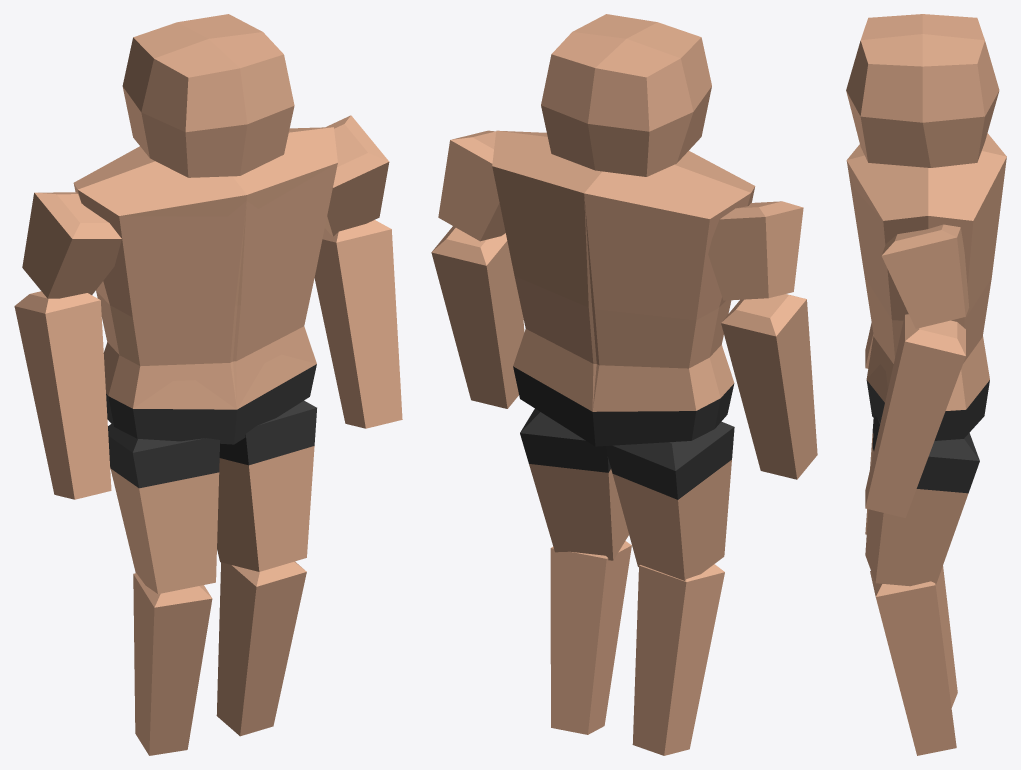
File: man.fbx
3 renders of one model, left to right at view 1: azimuth 30°, elevation 25°; view 2: azimuth 150°, elevation 25°; view 3: azimuth 270°, elevation 25°, orthographic.
Visible parts, largest first — view 1: Cube, Cube.003, Cube.002, Cube.008, Cube.007, Cube.006, Cube.010, Cube.009, Cube.001, Cube.004; view 2: Cube, Cube.003, Cube.008, Cube.009, Cube.002, Cube.010, Cube.007, Cube.006, Cube.001, Cube.004; view 3: Cube, Cube.003, Cube.007, Cube.006, Cube.010, Cube.004, Cube.009.
Part boxes in pixels (x1,y1,x2,y2): Cube: (73, 127, 337, 444); Cube.003: (122, 14, 294, 177); Cube.002: (14, 291, 111, 499); Cube.008: (108, 424, 220, 593); Cube.007: (314, 220, 402, 428); Cube.006: (217, 400, 316, 571); Cube.010: (216, 561, 306, 736); Cube.009: (133, 573, 212, 755); Cube.001: (22, 192, 121, 298); Cube.004: (325, 115, 389, 236); Cube: (492, 130, 755, 446); Cube.003: (541, 14, 711, 176); Cube.008: (606, 421, 734, 580); Cube.009: (632, 564, 724, 755); Cube.002: (721, 294, 817, 479); Cube.010: (550, 541, 631, 734); Cube.007: (431, 226, 524, 408); Cube.006: (520, 408, 628, 560); Cube.001: (708, 201, 803, 300); Cube.004: (438, 130, 505, 241); Cube: (846, 133, 1006, 440); Cube.003: (846, 14, 999, 167); Cube.007: (865, 314, 965, 517); Cube.006: (865, 416, 979, 586); Cube.010: (870, 571, 956, 755); Cube.004: (881, 224, 969, 328); Cube.009: (935, 566, 957, 707).
Size of the model in its own units: 282 by 544 by 115.
